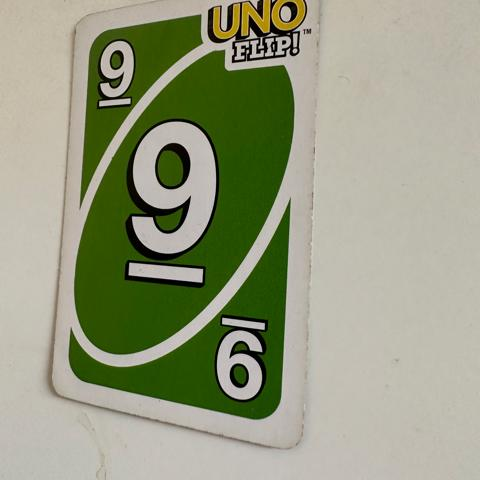2_red: (125, 114, 221, 296), (215, 310, 269, 406), (94, 39, 137, 108)
